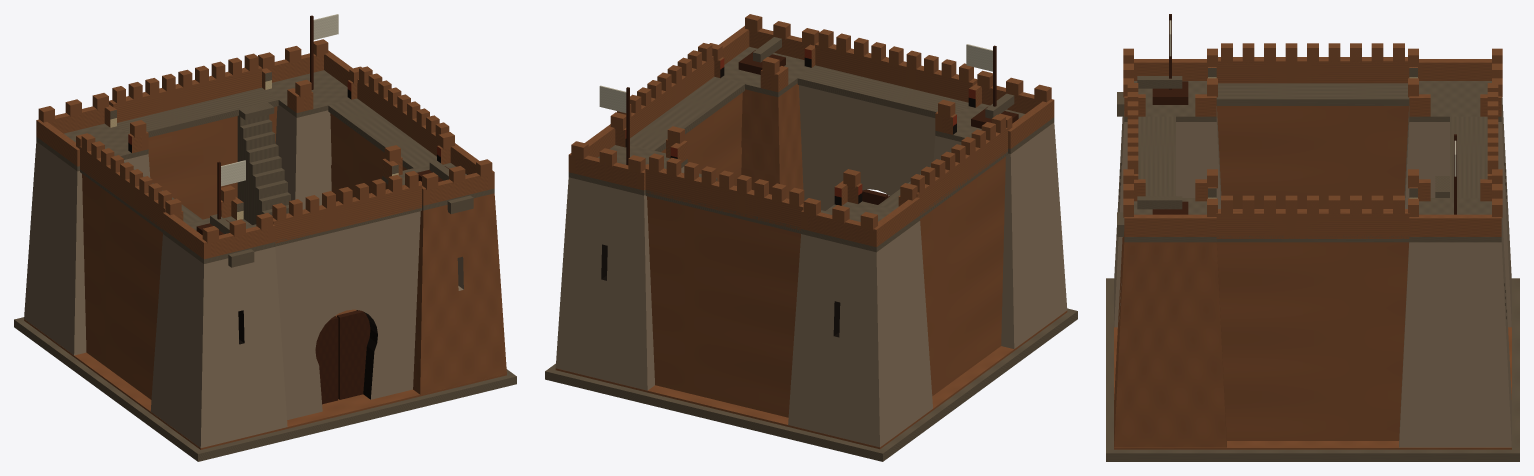
File: Berber_Keep_Age3.fbx
3 views of the same model, side by side, from view 1: azimuth 30°, elevation 25°; view 2: azimuth 150°, elevation 25°; view 3: azimuth 270°, elevation 25° (orthographic). The views are drawn at different scales.
Parts seen in each view (by area): view 1: battered_square_tower, front_gate_wall, battered_square_tower.002, curtain_wall, battered_square_tower.001, foundation, rear_wall, battered_square_tower.003, curtain_parapet.002, courtyard_floor, curtain_parapet.003, curtain_wall.001 (+29 smaller); view 2: rear_wall, battered_square_tower.001, battered_square_tower.003, curtain_wall, battered_square_tower, front_gate_wall, foundation, battered_square_tower.002, curtain_parapet.003, rampart_walk.002, curtain_parapet.002, courtyard_floor (+21 smaller); view 3: curtain_wall.001, battered_square_tower.003, battered_square_tower.002, curtain_wall, foundation, curtain_parapet.001, curtain_parapet, rampart_walk, battered_square_tower, battered_square_tower.001, rampart_walk.002, rampart_walk.003 (+17 smaller).
Boxes of the visible parts, bbox=[...] form: battered_square_tower: bbox=[150, 234, 287, 447]; front_gate_wall: bbox=[275, 211, 420, 420]; battered_square_tower.002: bbox=[385, 183, 506, 394]; curtain_wall: bbox=[82, 174, 162, 399]; battered_square_tower.001: bbox=[24, 141, 150, 355]; foundation: bbox=[14, 317, 516, 461]; rear_wall: bbox=[148, 106, 277, 219]; battered_square_tower.003: bbox=[275, 105, 331, 209]; curtain_parapet.002: bbox=[273, 183, 422, 243]; courtyard_floor: bbox=[24, 309, 506, 449]; curtain_parapet.003: bbox=[109, 65, 262, 122]; curtain_wall.001: bbox=[330, 113, 406, 201]; rear_wall: bbox=[647, 196, 800, 417]; battered_square_tower.001: bbox=[788, 221, 932, 447]; battered_square_tower.003: bbox=[555, 166, 684, 390]; curtain_wall: bbox=[920, 156, 1005, 395]; battered_square_tower: bbox=[933, 122, 1067, 348]; front_gate_wall: bbox=[799, 85, 935, 210]; foundation: bbox=[545, 308, 1077, 461]; battered_square_tower.002: bbox=[741, 83, 803, 198]; curtain_parapet.003: bbox=[645, 166, 803, 230]; rampart_walk.002: bbox=[797, 65, 968, 117]; curtain_parapet.002: bbox=[815, 42, 977, 102]; courtyard_floor: bbox=[555, 310, 1067, 449]; curtain_wall.001: bbox=[1217, 242, 1408, 440]; battered_square_tower.003: bbox=[1399, 218, 1511, 447]; battered_square_tower.002: bbox=[1114, 231, 1226, 447]; curtain_wall: bbox=[1217, 106, 1408, 208]; foundation: bbox=[1106, 278, 1519, 461]; curtain_parapet.001: bbox=[1216, 209, 1409, 238]; curtain_parapet: bbox=[1216, 57, 1409, 83]; rampart_walk: bbox=[1216, 83, 1409, 105]; battered_square_tower: bbox=[1114, 106, 1221, 327]; battered_square_tower.001: bbox=[1404, 97, 1511, 327]; rampart_walk.002: bbox=[1138, 116, 1175, 196]; rampart_walk.003: bbox=[1450, 116, 1487, 197].
Size of the model in its own units: 770 by 615 by 770.
Materials: 4 (4 with a texture image).
